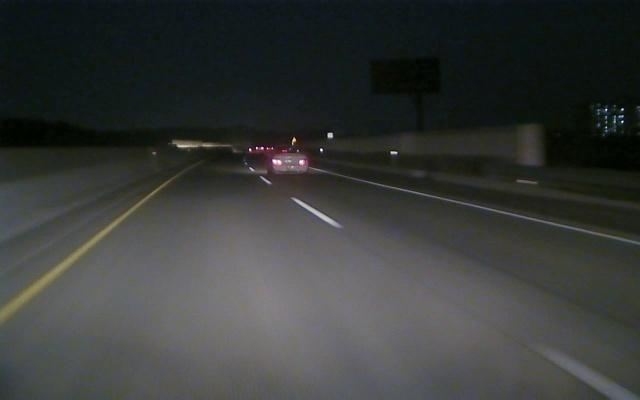lane: (261, 178, 640, 400), (313, 168, 637, 246), (2, 181, 169, 324)
